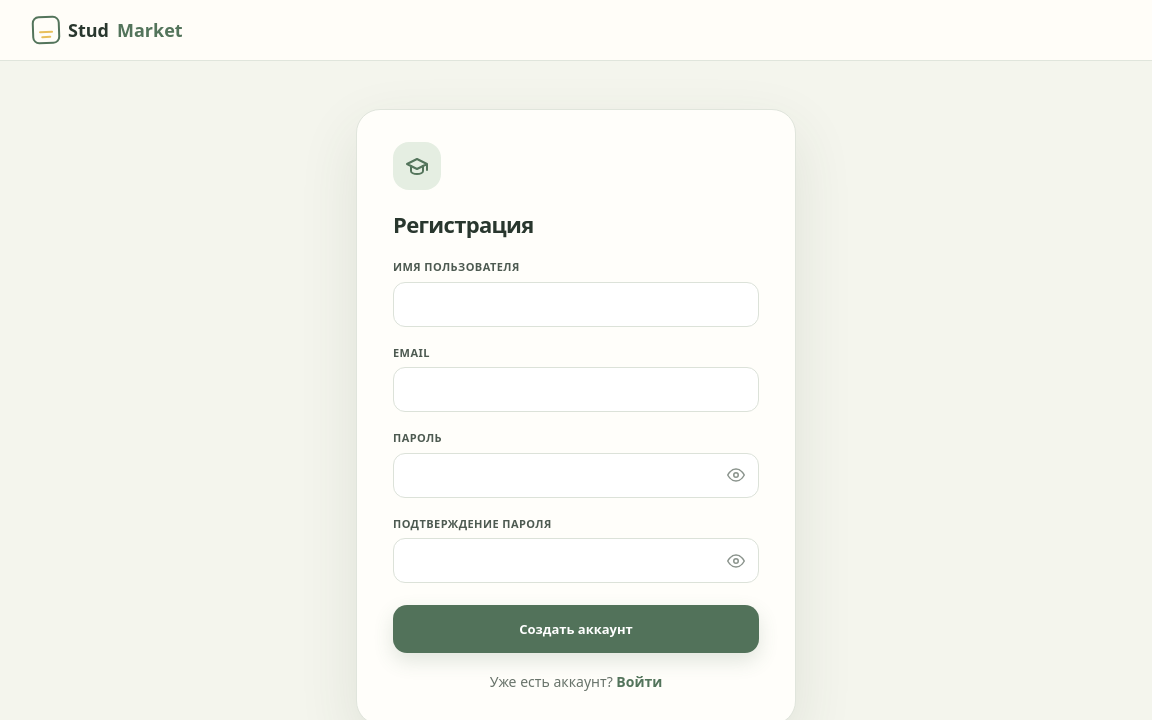
RegisterPage › shows an error when passwords do not match and does not submit
Type "alice" into the field labelled "Имя пользователя".
click(576, 304); type("alice")  # box [393, 282, 759, 326]
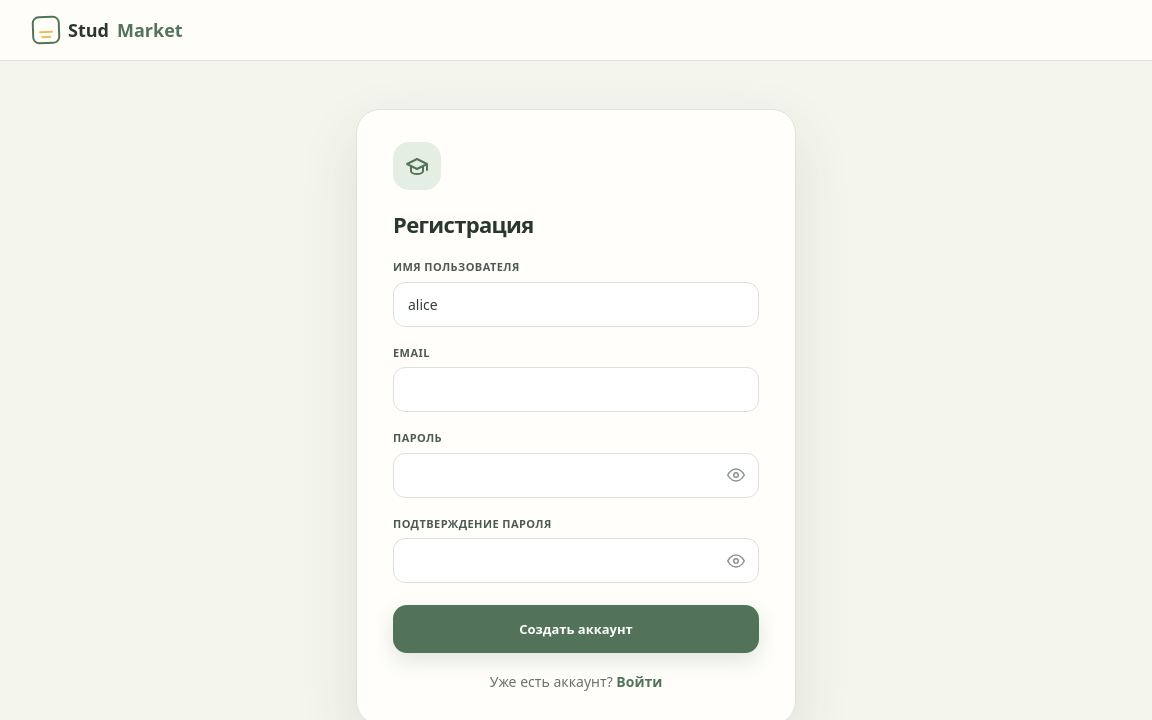
Type "alice@example.com" into the field labelled "Email".
click(576, 390); type("alice@example.com")  # box [393, 367, 759, 412]
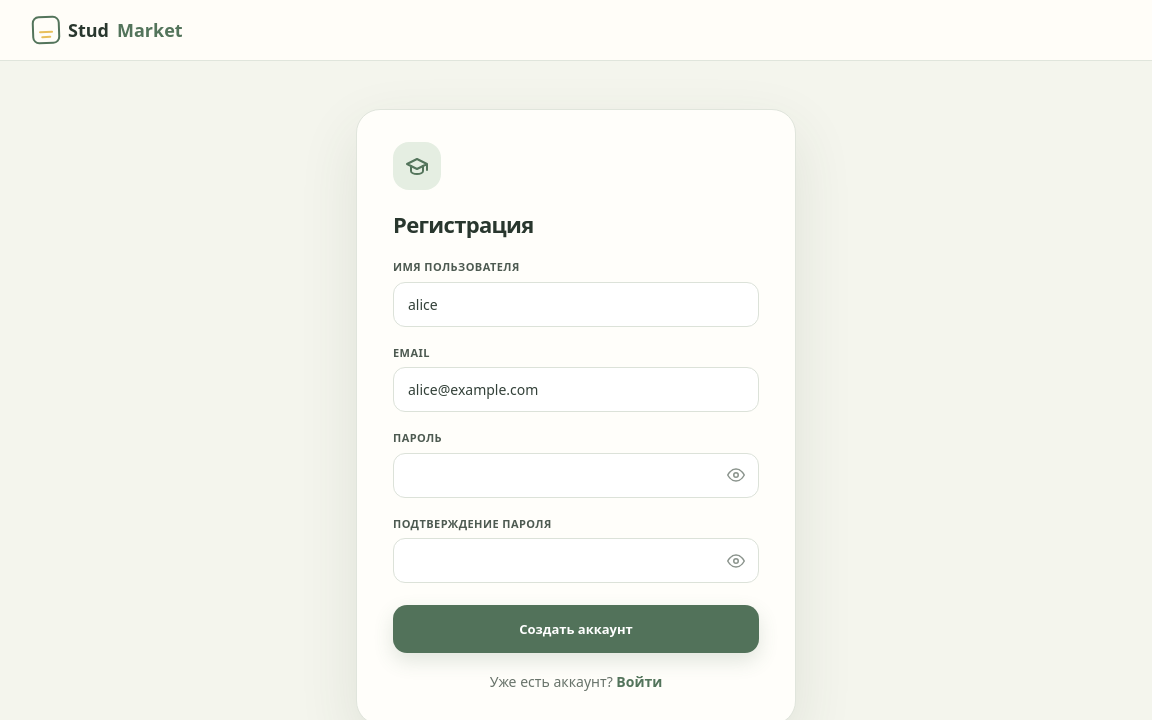
Type "Secret123" into the password field labelled "Пароль".
click(576, 475); type("Secret123")  # box [393, 452, 759, 498]
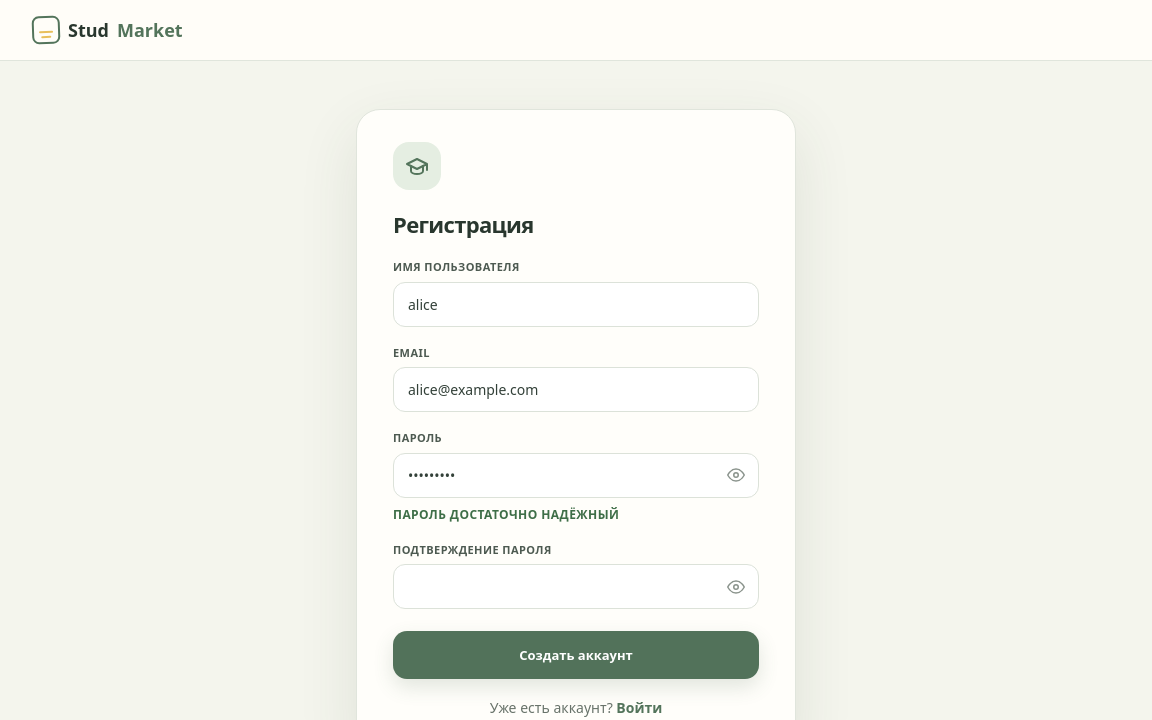
Type "different" into the password field labelled "Подтверждение пароля".
click(576, 586); type("different")  # box [393, 564, 759, 609]
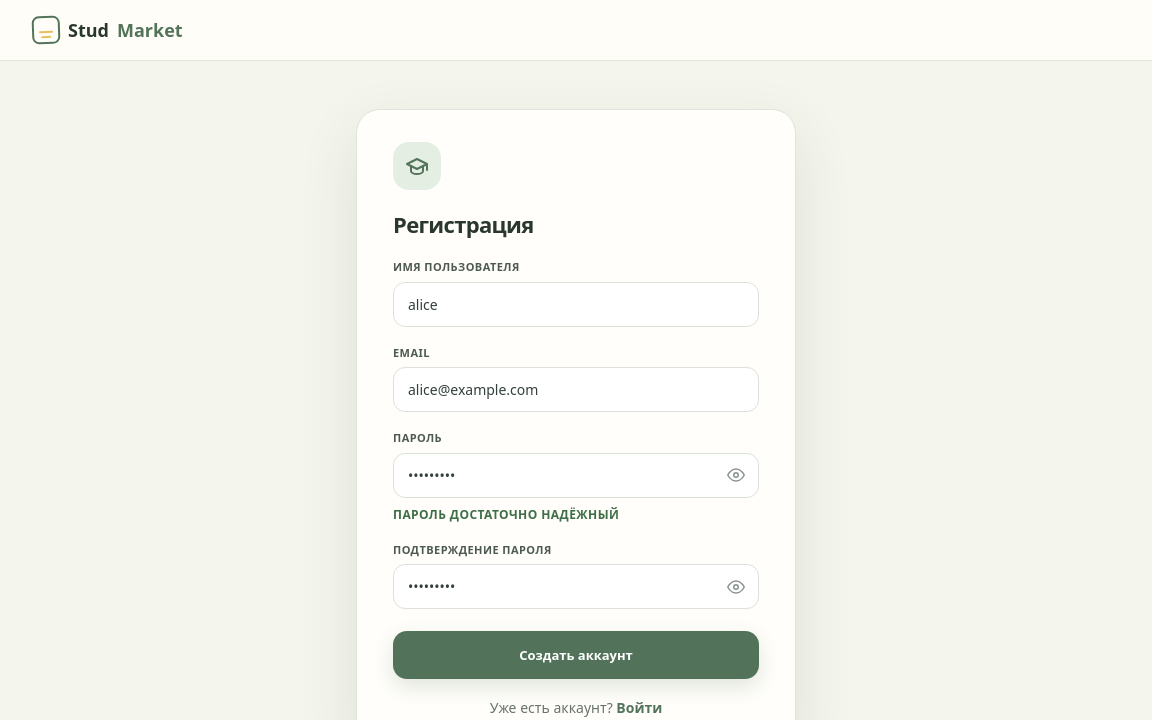
Click the button "Создать аккаунт".
click(576, 655)  # box [393, 631, 759, 679]
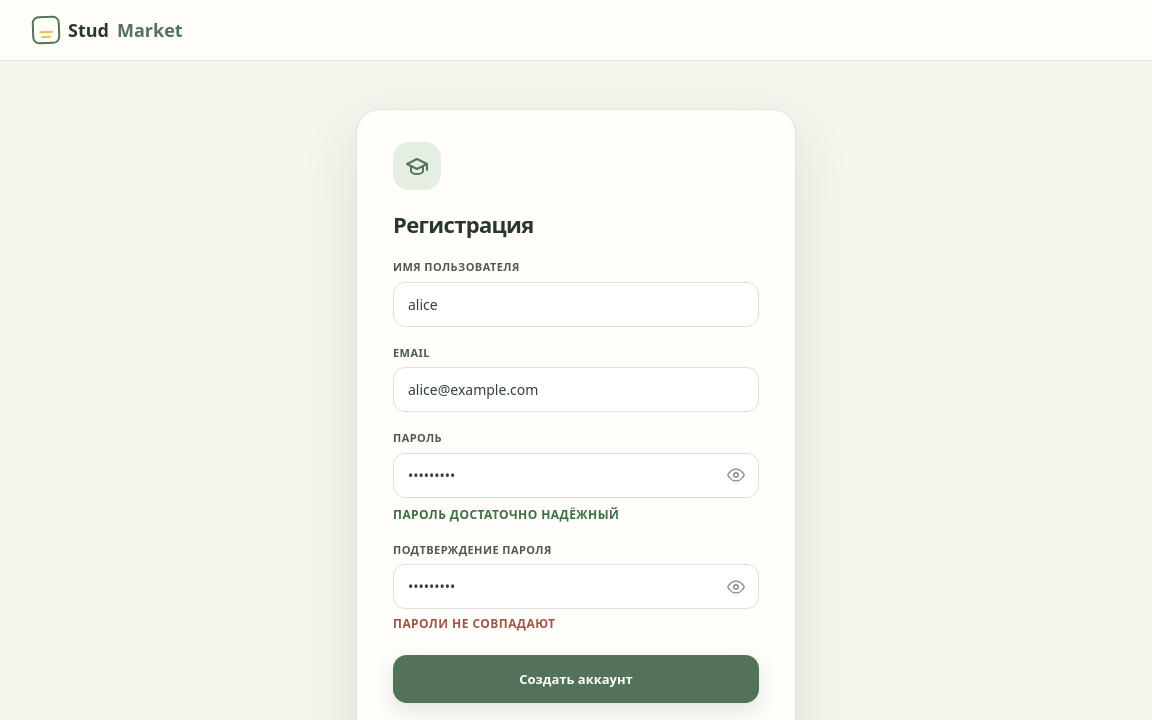
Result: the text "Пароли не совпадают" is shown at [393, 615, 556, 632]
